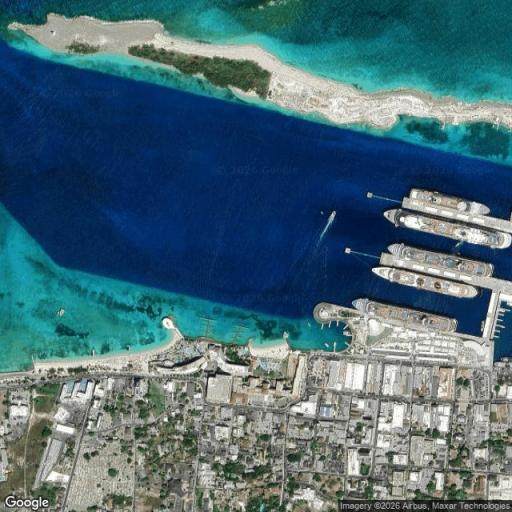ship: (384, 209, 511, 248), (388, 244, 493, 276), (352, 299, 456, 331), (372, 267, 478, 297), (410, 189, 489, 215), (319, 211, 335, 241), (481, 319, 487, 333), (306, 322, 313, 329), (323, 343, 331, 349)
